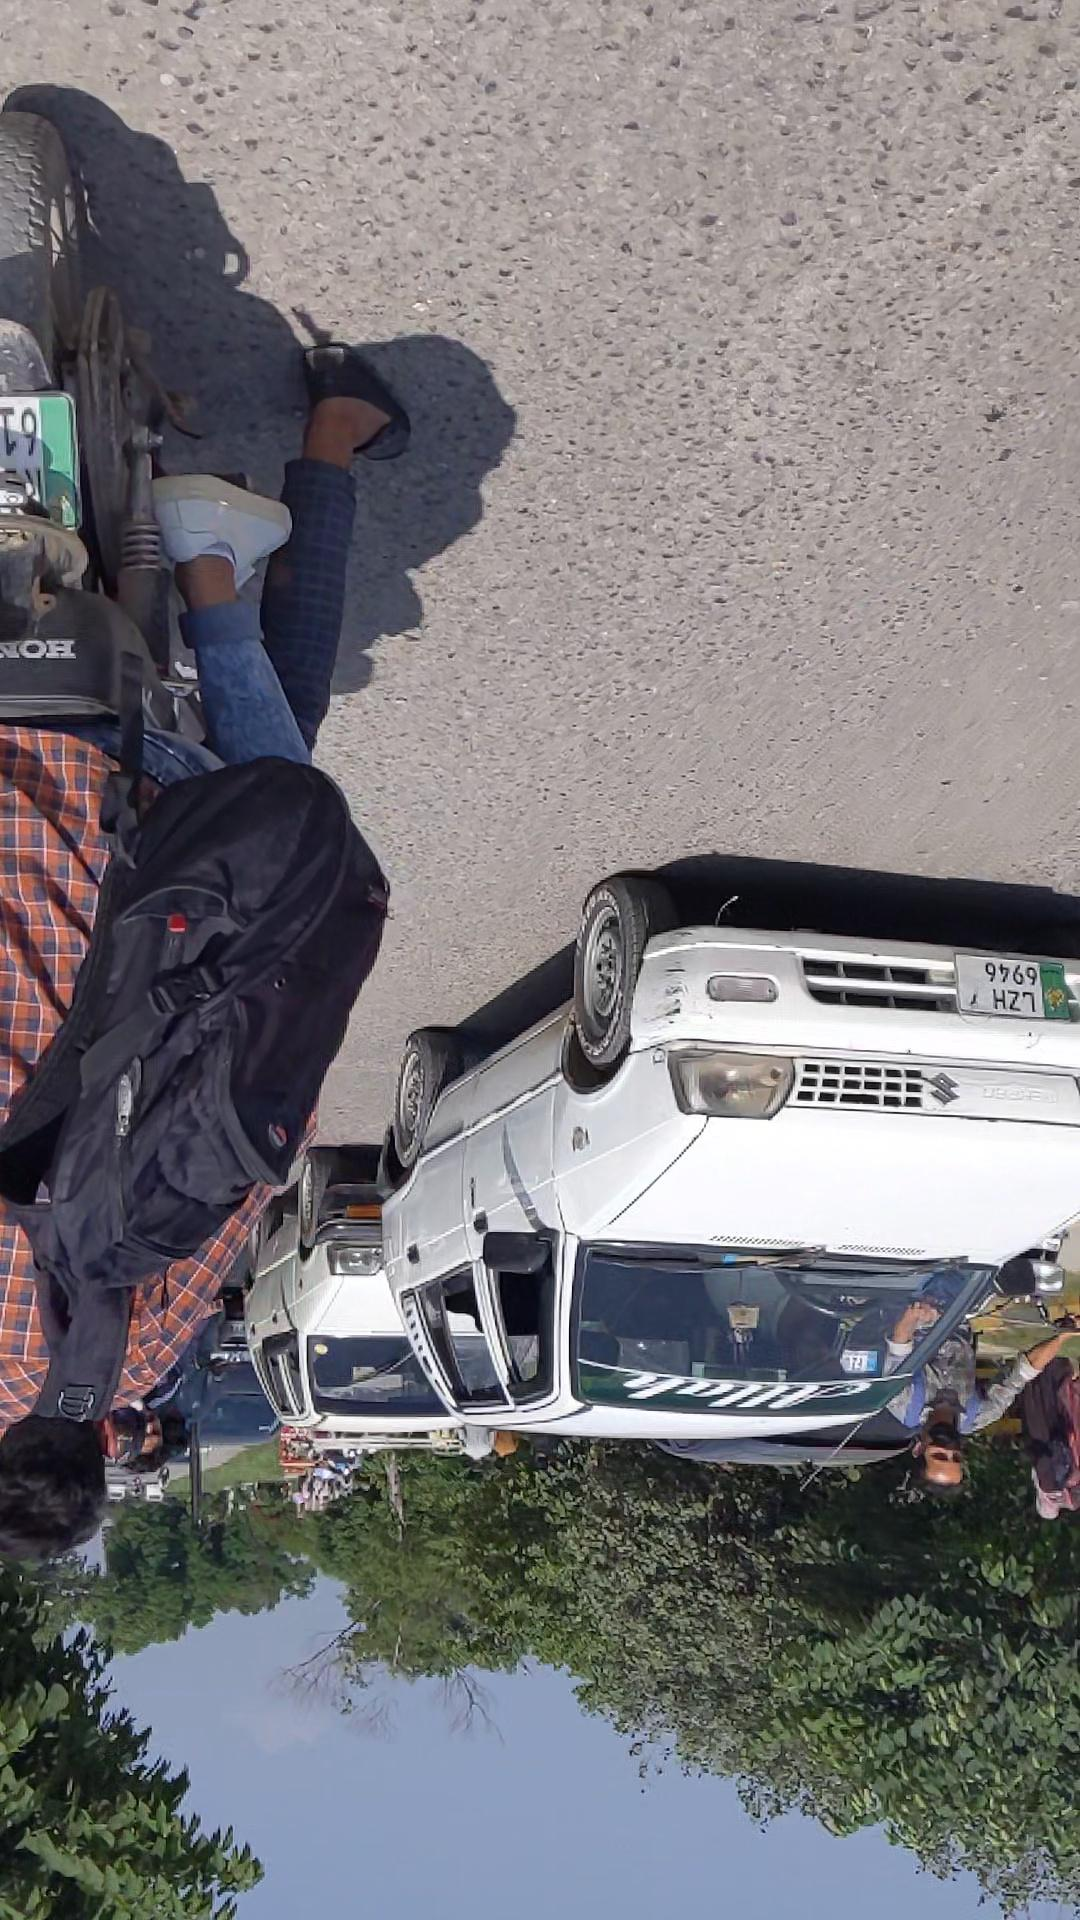windshield: (76, 491, 506, 690)
